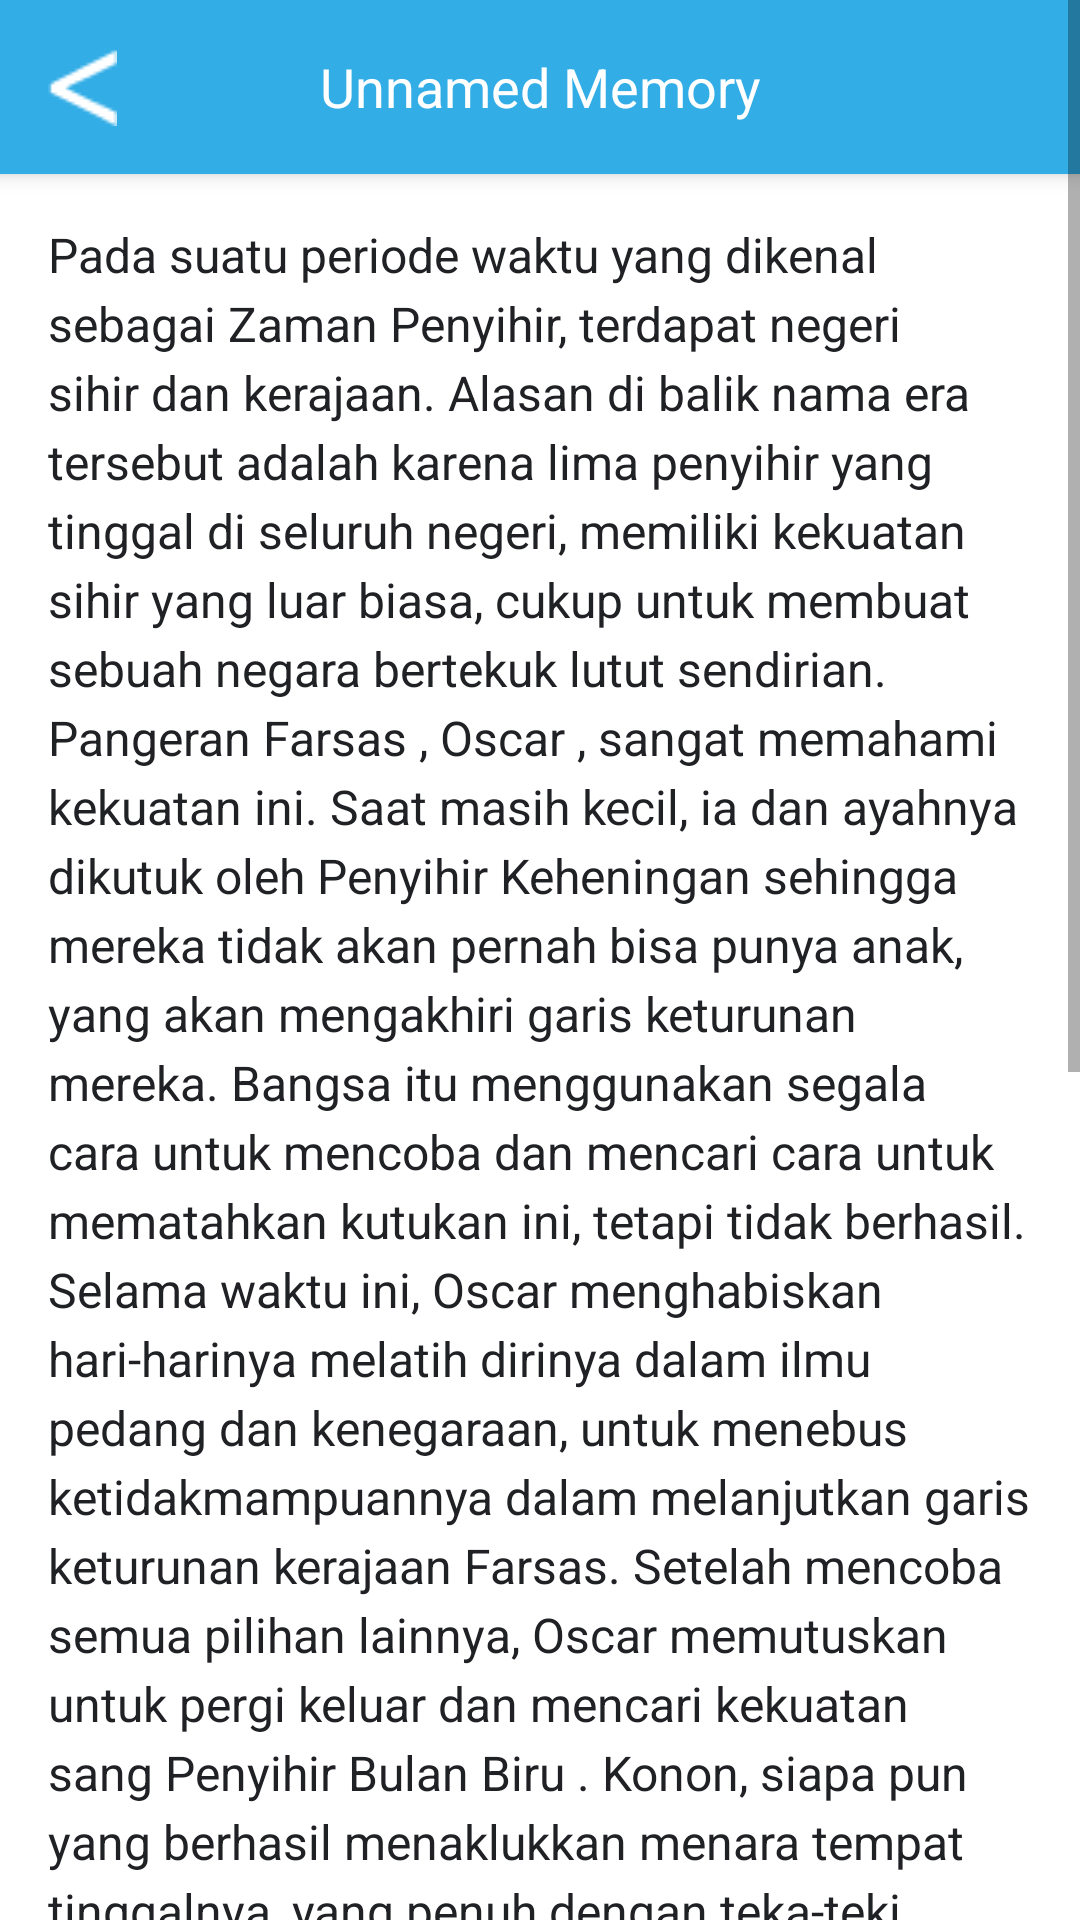

Where to tap for icons on this 1080x1920 app screen, as (x,y):
back: (82,88)
